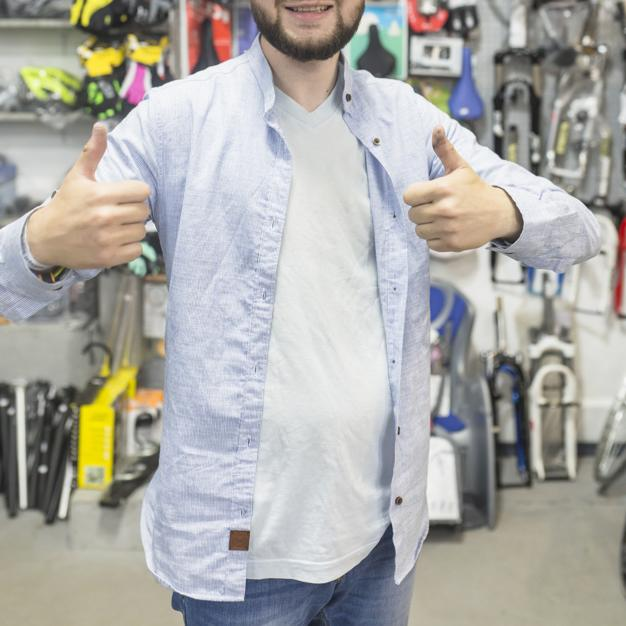thumbsup: (78, 122, 150, 266), (403, 124, 472, 252)
